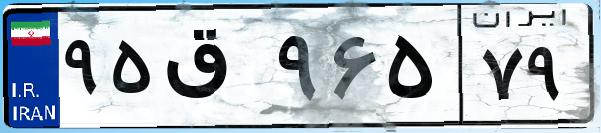5: (385, 28, 445, 110), (110, 28, 158, 98)
6: (330, 28, 385, 110)
7: (475, 38, 525, 113)
9: (270, 28, 330, 110), (57, 26, 110, 100), (525, 38, 570, 115)
ق: (158, 20, 270, 120)
